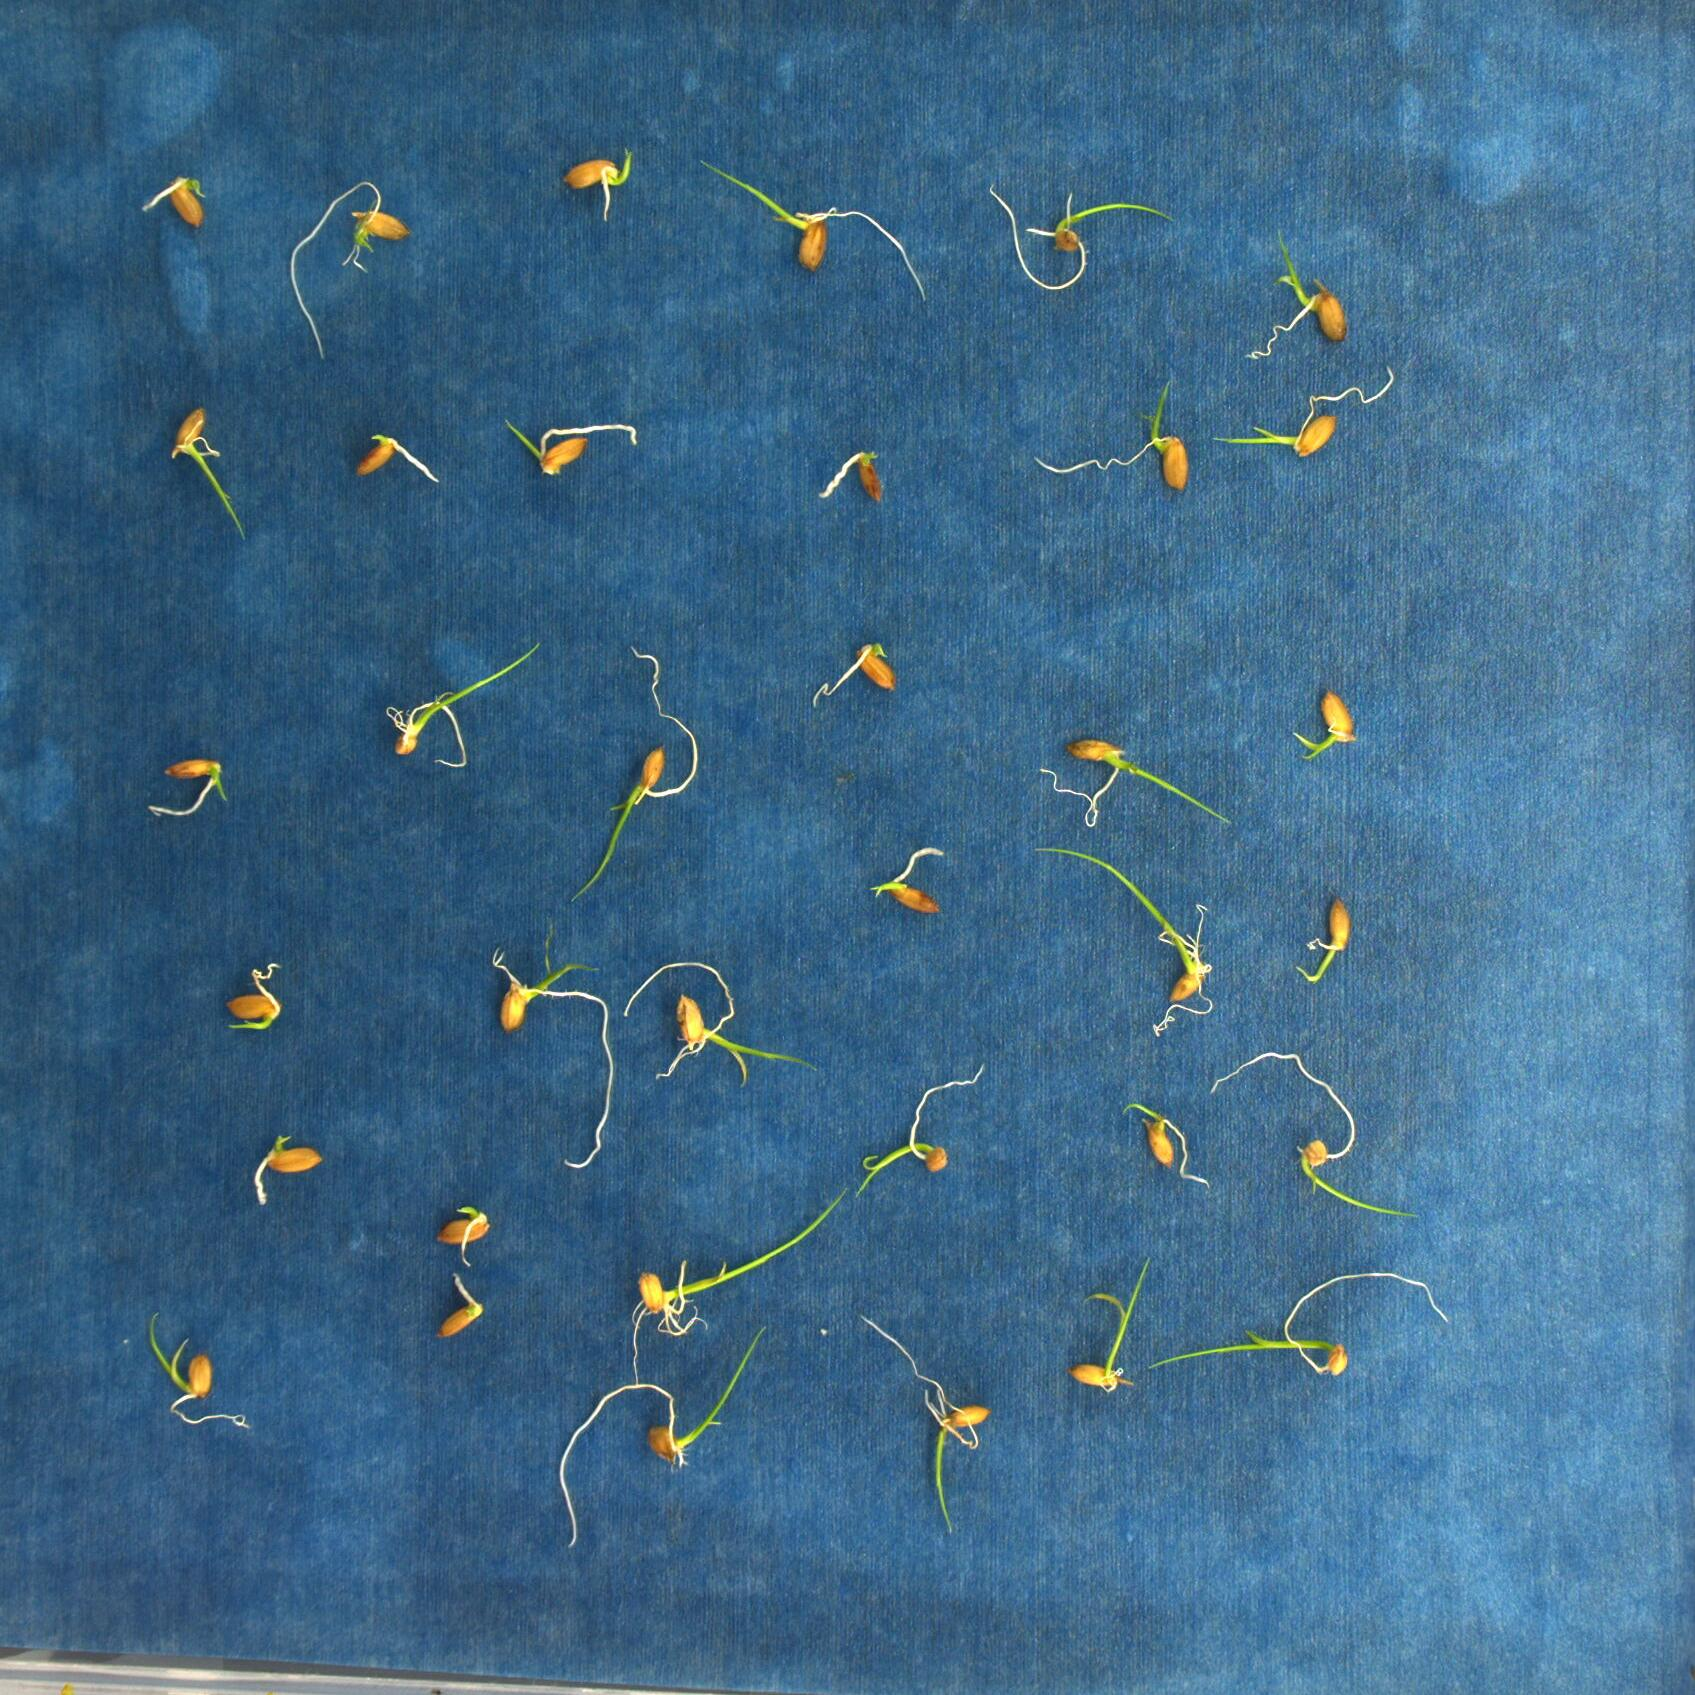not sprout: (810, 640, 893, 705), (250, 1132, 323, 1203), (352, 435, 442, 487), (821, 447, 889, 506), (436, 1205, 489, 1267), (435, 1270, 483, 1336)
sprout: (557, 1324, 771, 1546), (629, 1187, 849, 1381), (1211, 1052, 1420, 1222), (695, 157, 927, 304), (1032, 847, 1212, 1037), (1142, 1271, 1451, 1375), (490, 919, 615, 1170), (573, 649, 694, 902), (860, 1315, 989, 1535), (619, 959, 816, 1090), (289, 180, 408, 360), (383, 643, 542, 771), (989, 185, 1180, 290), (1031, 373, 1191, 492), (854, 1060, 989, 1197), (1209, 366, 1392, 459), (1038, 742, 1231, 827), (146, 1305, 250, 1431), (1250, 227, 1344, 359), (165, 404, 250, 543), (1068, 1257, 1150, 1395), (1121, 1101, 1212, 1191), (503, 416, 638, 473), (869, 840, 945, 917), (560, 147, 632, 225), (1291, 899, 1352, 984), (147, 756, 227, 816), (1293, 692, 1357, 757), (225, 959, 279, 1031), (141, 174, 205, 228)
